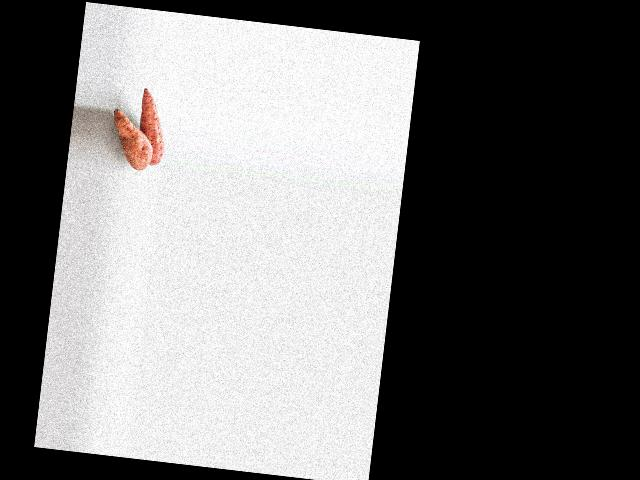sweet_potato: (134, 92, 169, 166)
